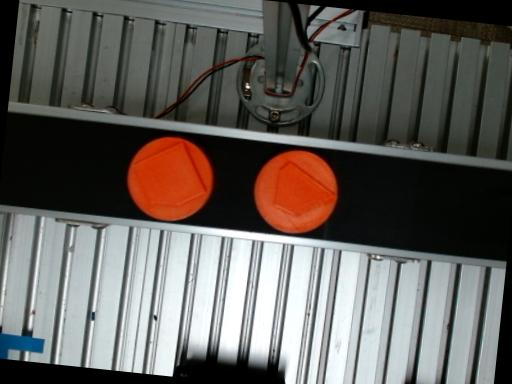Not_Square: (131, 144, 206, 207), (274, 159, 335, 218)
Orange_Waper: (127, 137, 212, 220), (254, 150, 337, 232)
